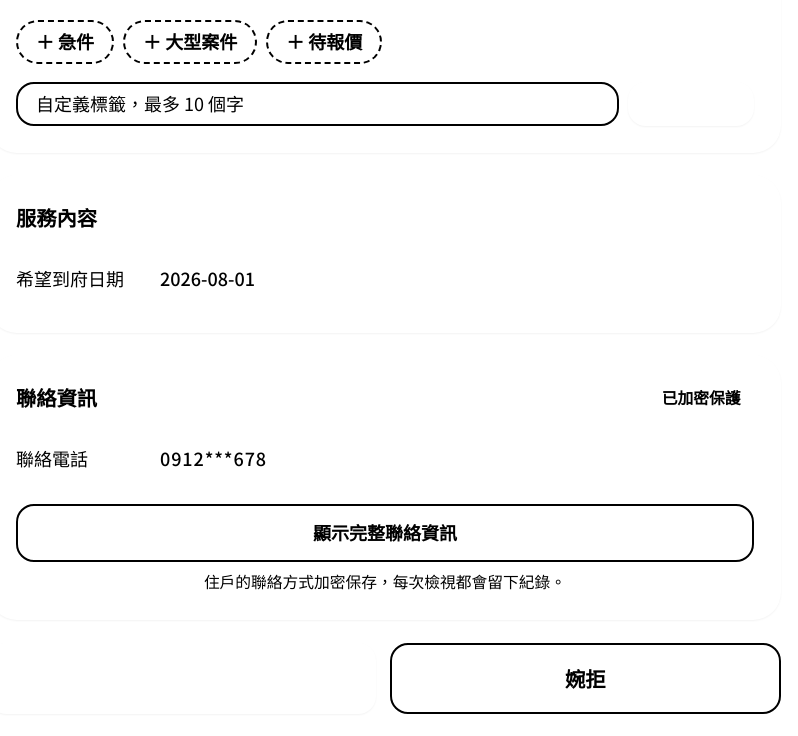
Test case: VendorRequestDetailPage 聯絡資訊 › 預設只顯示遮罩值，解密後換成完整內容並列出存取紀錄
This screenshot has width=798, height=736.
(page scrolled)
Expected: the text "0912***678" is shown, [160, 445, 267, 471]
Expected: the text "0912345678" is not shown
Click the button "顯示完整聯絡資訊": (385, 532) [16, 504, 754, 562]
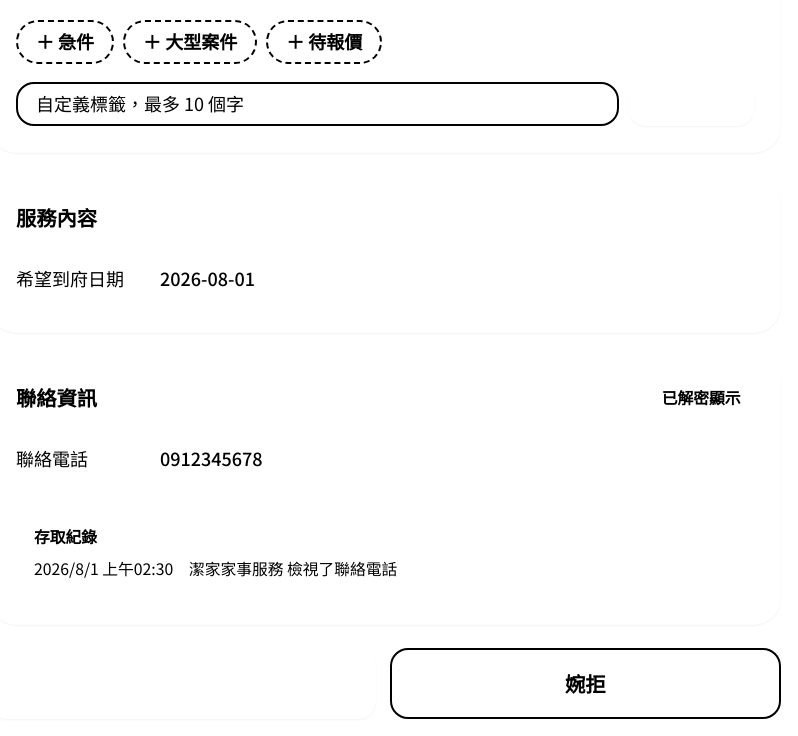
Now the text "0912345678" is shown, box [160, 445, 263, 471]
Now the text "0912***678" is gone
Now the button "顯示完整聯絡資訊" is gone
